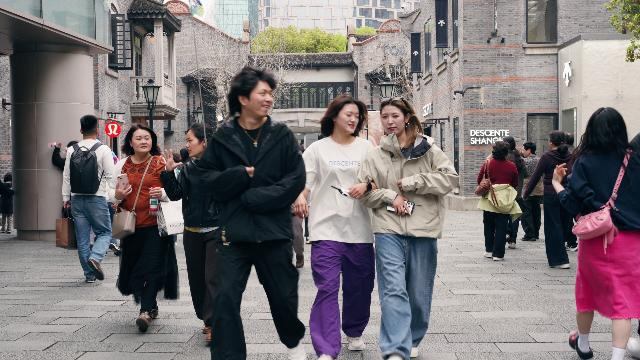person: (185, 66, 307, 360), (356, 96, 461, 360), (292, 93, 378, 360), (552, 106, 640, 360), (108, 123, 179, 332), (160, 122, 227, 341), (62, 114, 118, 282), (522, 130, 574, 269), (476, 141, 519, 261), (503, 136, 530, 249), (521, 141, 544, 241), (564, 132, 579, 251), (0, 172, 14, 234), (291, 208, 305, 267), (624, 322, 640, 359)
